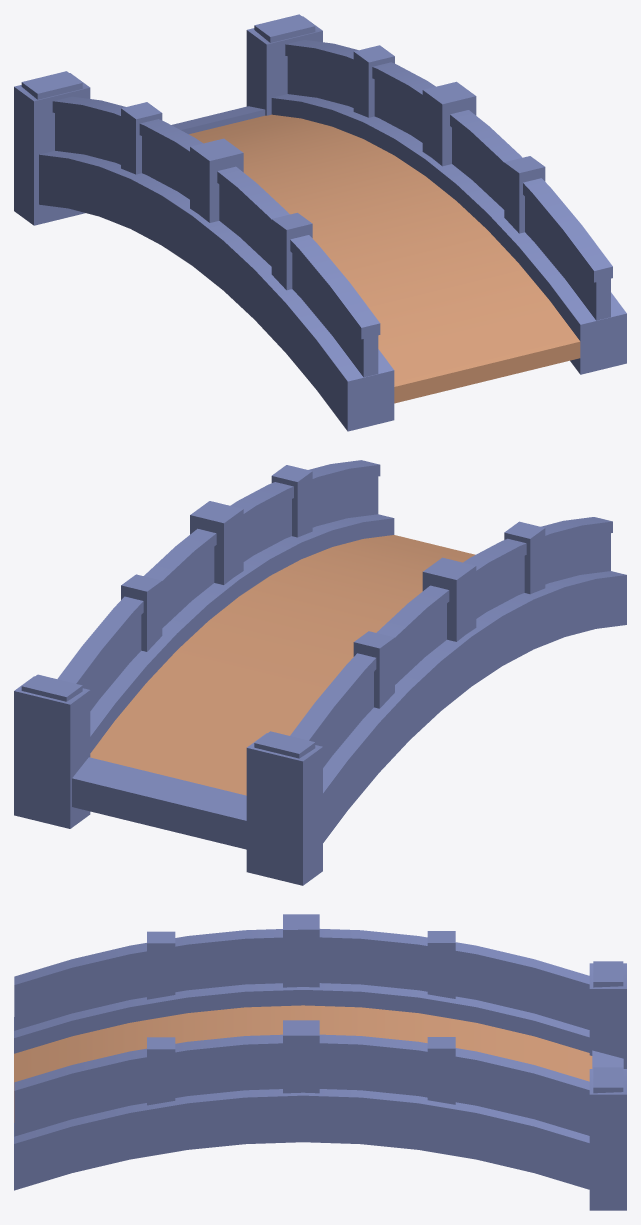
Rendered from bridge_2c_2.fbx.
The picture shows the model from 3 angles, top to bottom: view 1: azimuth 30°, elevation 25°; view 2: azimuth 150°, elevation 25°; view 3: azimuth 270°, elevation 25°; orthographic projection. The views are drawn at different scales.
Visible parts, largest first — view 1: bridge_2c_2; view 2: bridge_2c_2; view 3: bridge_2c_2.
Part boxes in pixels (box(x1,y1,x2,y2)): bridge_2c_2: box(14, 14, 626, 431); bridge_2c_2: box(14, 460, 626, 885); bridge_2c_2: box(14, 914, 626, 1210).
Bounding box in the file's own units: 9.94 × 5.99 × 19.59.
